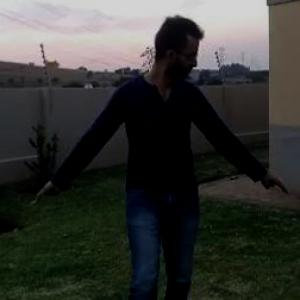land: (4, 0, 288, 299)
